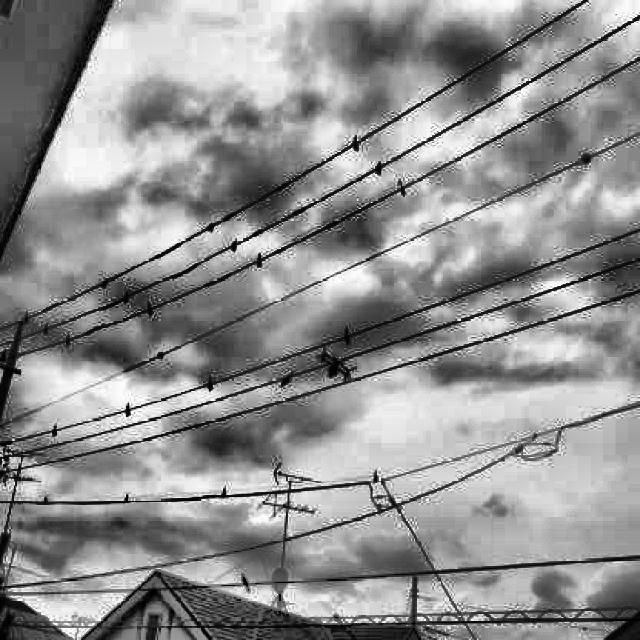V22: (316, 343, 358, 382)
